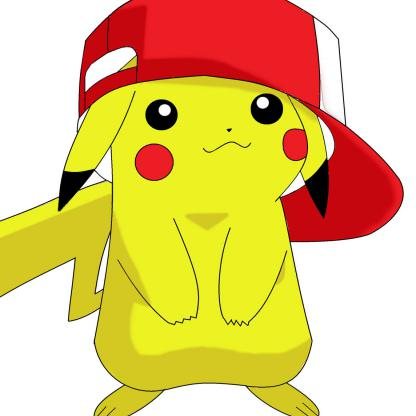Pikachu: (1, 90, 416, 416)
